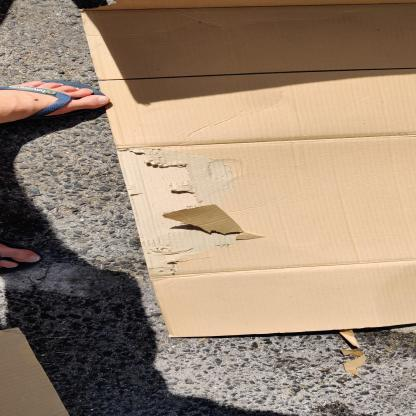karton: (75, 1, 416, 339), (4, 328, 72, 416)
